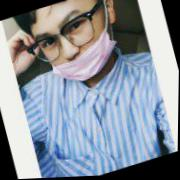WRONG: (29, 1, 120, 92)
